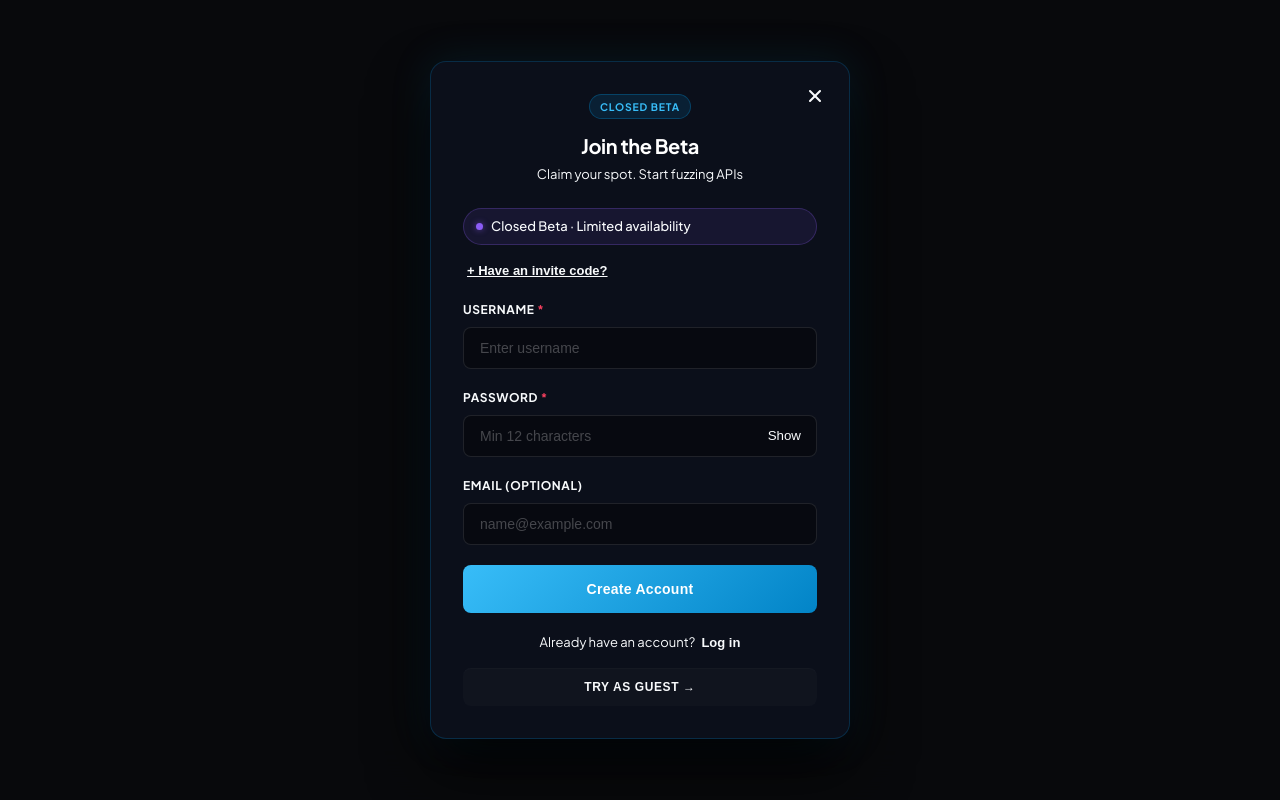
Test case: AuthModal Component › renders optional invite code toggle when betaLimitReached is false in beta mode
Click the button "+ Have an invite code?": (537, 271) x1=467 y1=263 x2=608 y2=278
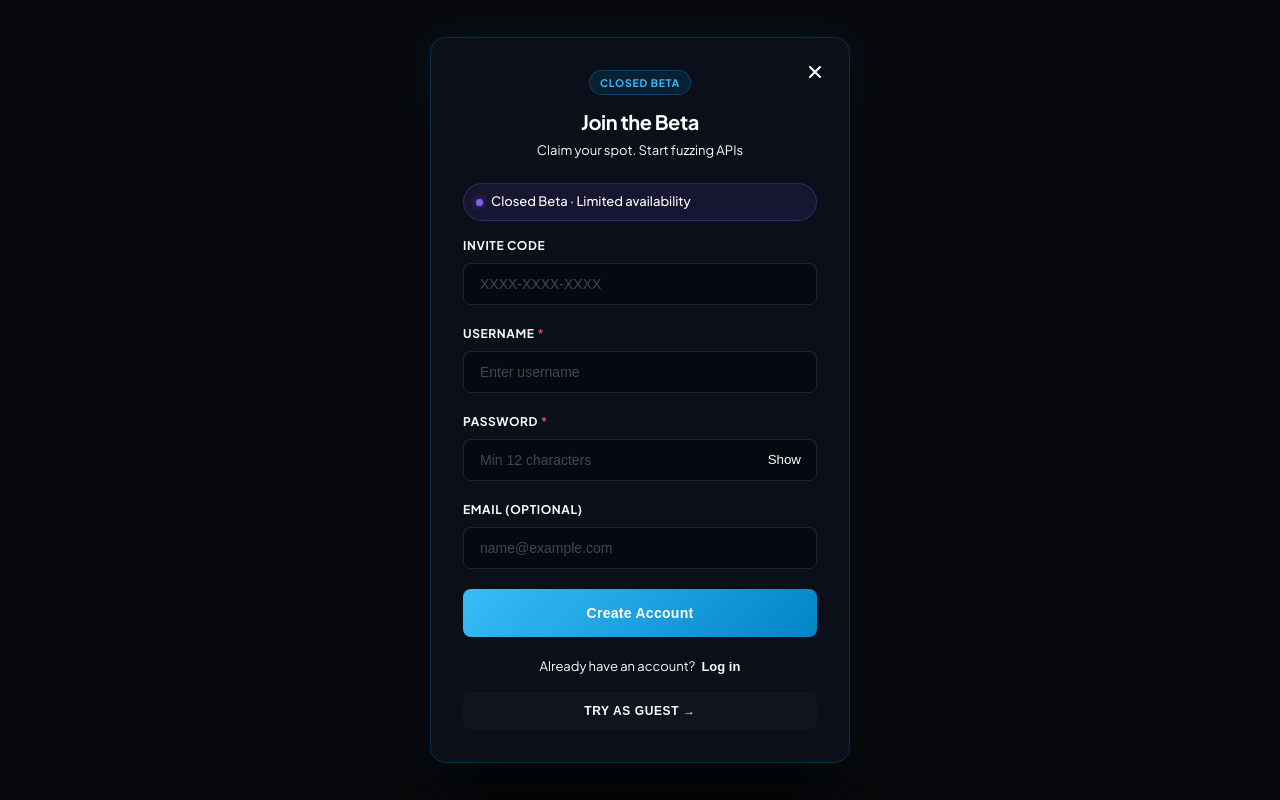
Result: the field with placeholder "XXXX-XXXX-XXXX" is shown at x1=463 y1=263 x2=817 y2=305
